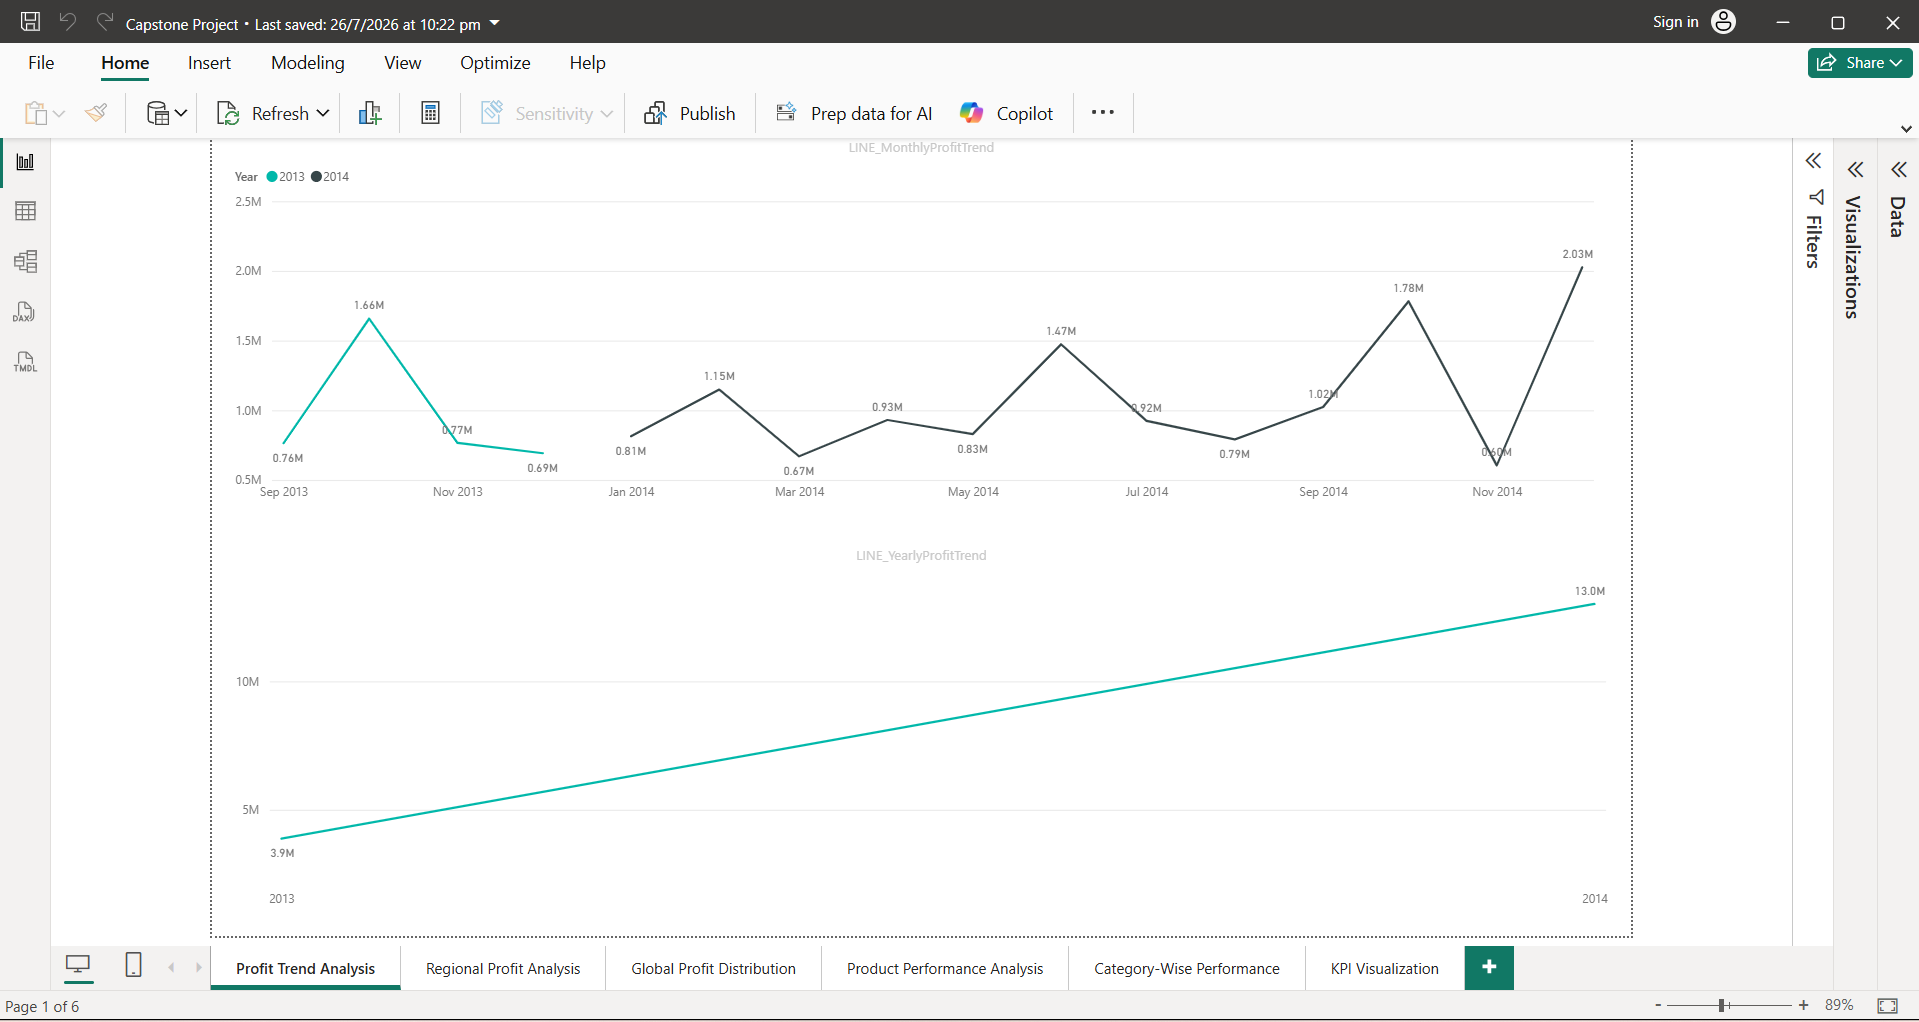

The dashboard page shown, as its layout file describes it:
{"tool":"powerbi","page":{"name":"Profit Trend Analysis","canvas":[1280,720],"ordinal":0},"visuals":[{"type":"lineChart","title":"LINE_MonthlyProfitTrend","fields":{"Category":["Calendar.Date"],"Y":["_Measures.Total Profit"],"Series":["Calendar.Year"]},"box":[16,0,1248,336],"z":0},{"type":"lineChart","title":"LINE_YearlyProfitTrend","fields":{"Category":["Calendar.Year"],"Y":["_Measures.Total Profit"]},"box":[16,368,1248,336],"z":1000}]}

Visuals, with their boxes on the page's 1280x720 design canvas (x1, y1, x2, y2). These are canvas units, not pixel positions in the 1919x1022 screenshot, which may show the page scaled, cropped or inside an application window:
"LINE_MonthlyProfitTrend" lineChart: [left=16, top=0, right=1264, bottom=336]
"LINE_YearlyProfitTrend" lineChart: [left=16, top=368, right=1264, bottom=704]
